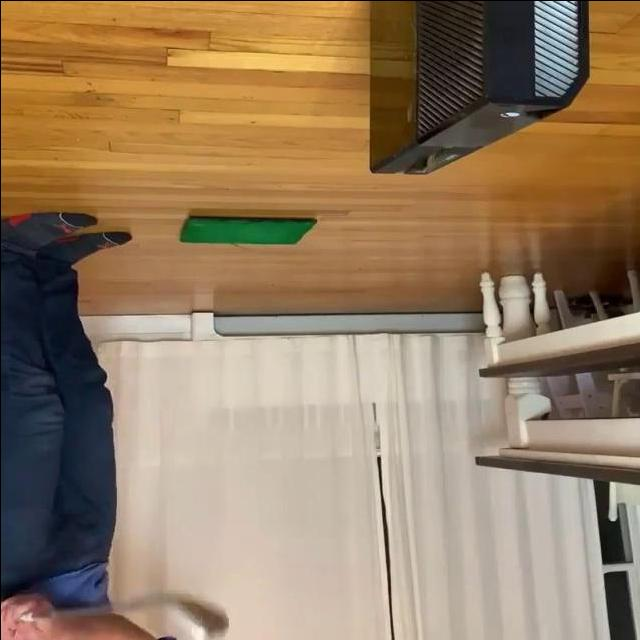golf club-handle: (26, 598, 227, 640)
golf club-head: (169, 598, 227, 640)
